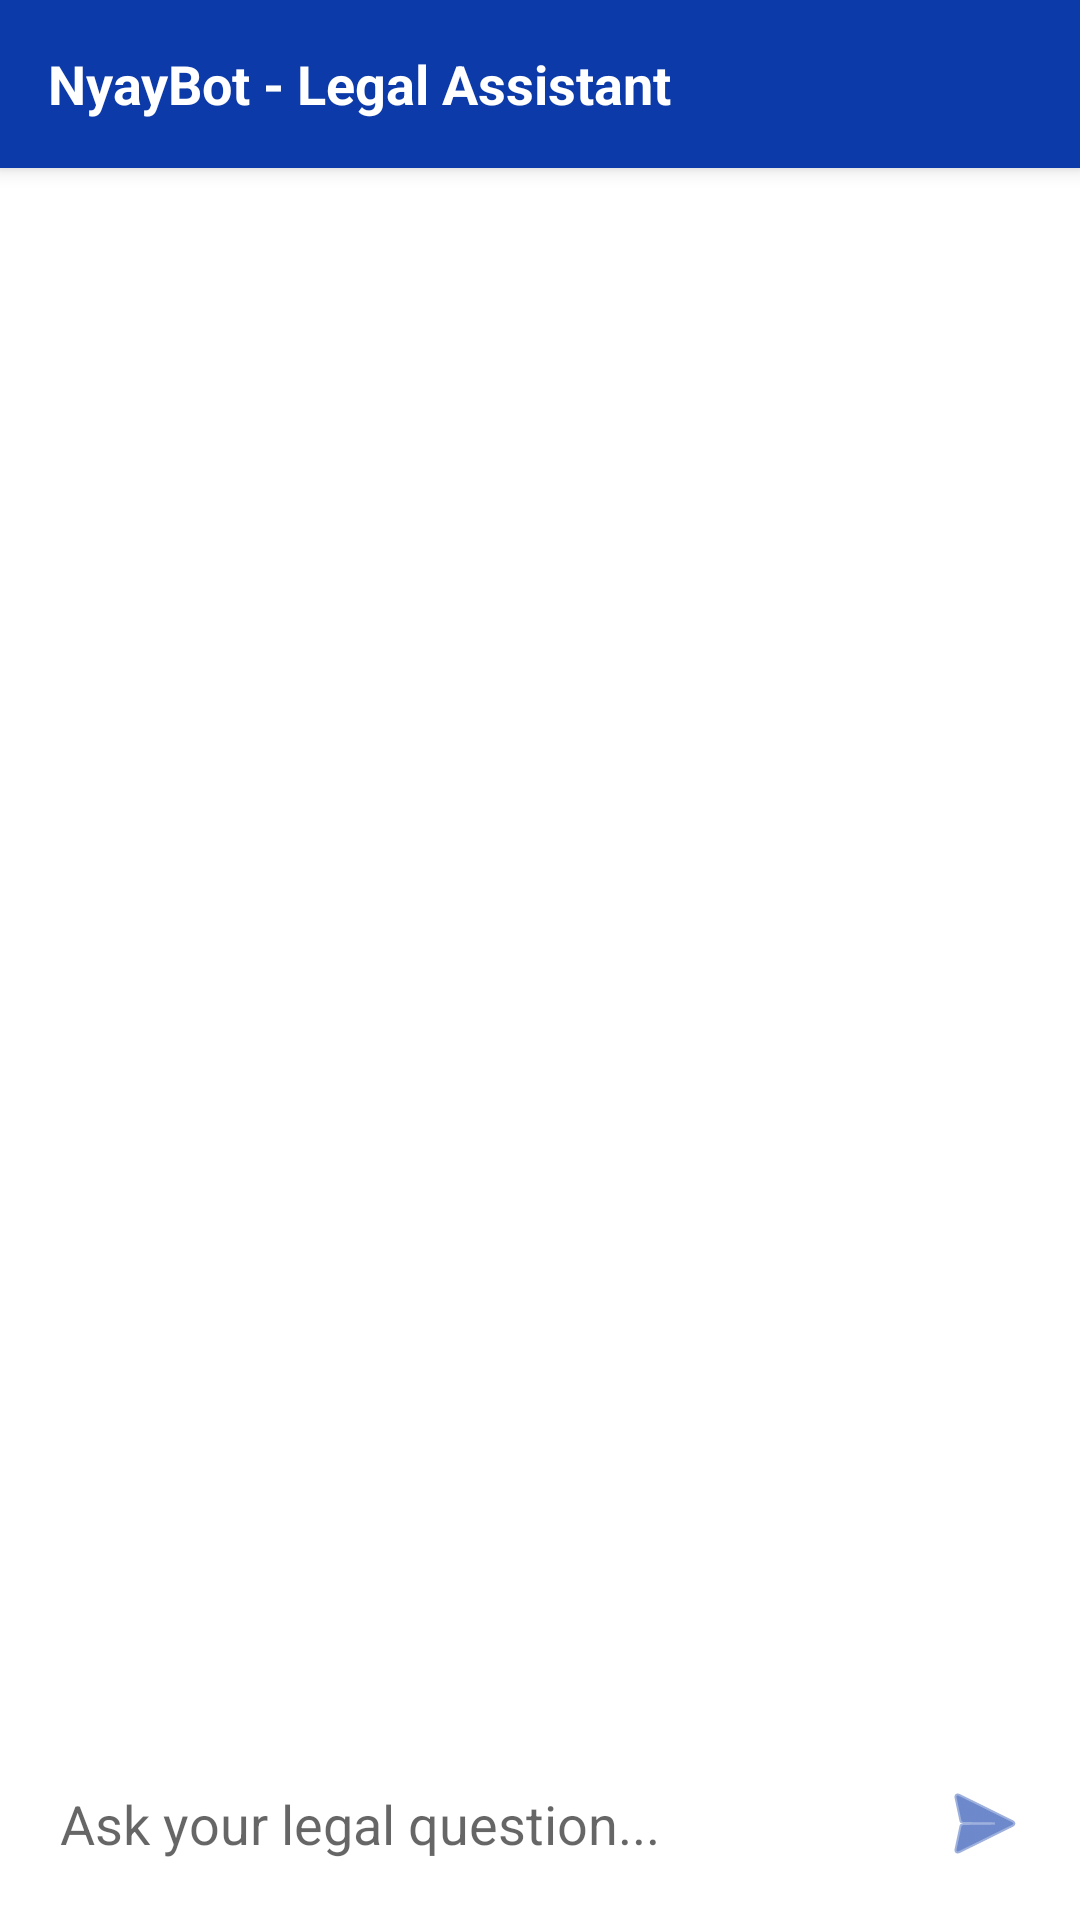

Screen size 1080px×1920px. Icon name, then its center in pixels as point (x, y):
send: point (985, 1823)
